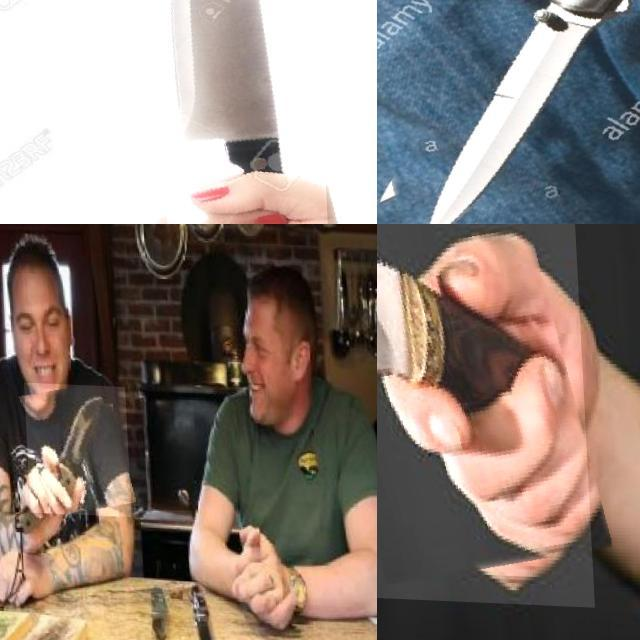-: (377, 224, 597, 603), (377, 0, 640, 224), (82, 0, 326, 224), (22, 381, 128, 514)
